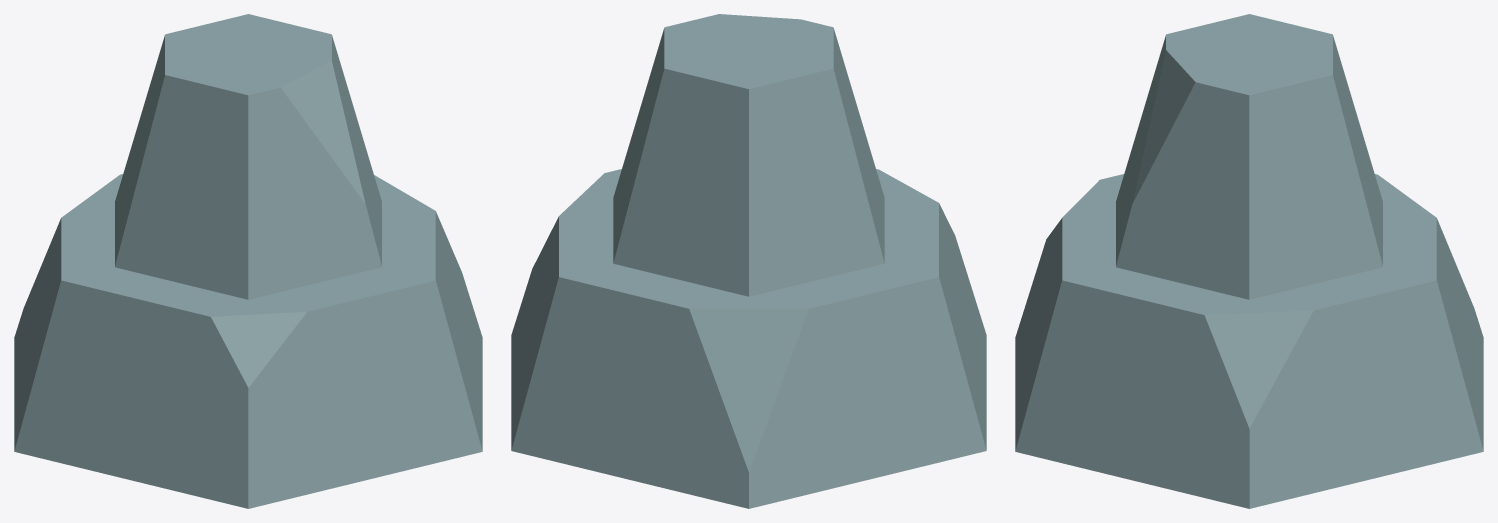
Rendered from stone_smallF.glb.
3 views of the same model, side by side, from view 1: azimuth 30°, elevation 25°; view 2: azimuth 150°, elevation 25°; view 3: azimuth 270°, elevation 25° (orthographic).
Visible parts, largest first — view 1: stone_smallF; view 2: stone_smallF; view 3: stone_smallF.
Part boxes in pixels (box(x1,y1,x2,y2)): stone_smallF: box(14, 14, 482, 508); stone_smallF: box(511, 14, 986, 508); stone_smallF: box(1015, 14, 1483, 508).
Bounding box in the file's own units: 0.4107 × 0.285 × 0.3557.
